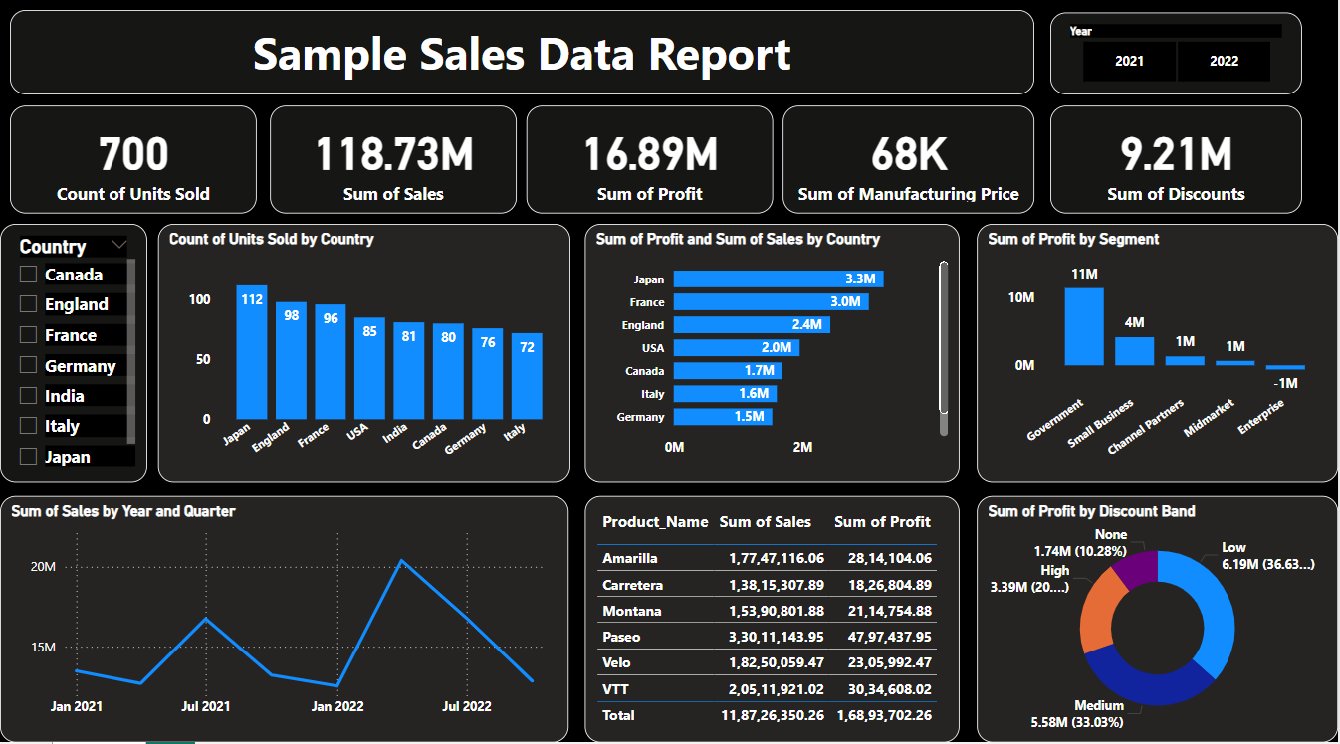

The page's visual inventory and layout, read from the dashboard file:
{"tool":"powerbi","page":{"name":"Page 1","canvas":[1280,720],"ordinal":0},"visuals":[{"type":"textbox","title":"Sample Sales Data Report","box":[9.5,19,979.8,81],"z":0},{"type":"donutChart","fields":{"Category":["Table3.Discount Band"],"Y":["Sum(Table3.Profit)"]},"box":[934.5,484.5,345.2,235.7],"z":1000},{"type":"columnChart","fields":{"Category":["Table3.Segment"],"Y":["Sum(Table3.Profit)"]},"box":[934.5,223.8,345.2,247.6],"z":2000},{"type":"lineChart","fields":{"Y":["Sum(Table3.Sales)"],"Category":["Table3.Date.Variation.Date Hierarchy.Year","Table3.Date.Variation.Date Hierarchy.Quarter","Table3.Date.Variation.Date Hierarchy.Month","Table3.Date.Variation.Date Hierarchy.Day"]},"box":[0,484.5,544.1,235.7],"z":3000},{"type":"clusteredColumnChart","fields":{"Y":["CountNonNull(Table3.Units Sold)"],"Category":["Table3.Country"]},"box":[151.2,223.8,394,247.6],"z":4000},{"type":"clusteredBarChart","fields":{"Category":["Table3.Country"],"Y":["Sum(Table3.Profit)"]},"box":[559.5,223.8,358.3,247.6],"z":5000},{"type":"tableEx","fields":{"Values":["Table3.Product_Name","Sum(Table3.Sales)","Sum(Table3.Profit)"]},"box":[559.5,484.5,358.3,235.7],"z":6000},{"type":"slicer","fields":{"Values":["Table3.Country"]},"box":[0,223.8,140.5,247.6],"z":7000},{"type":"card","fields":{"Values":["CountNonNull(Table3.Units Sold)"]},"box":[9.5,110.7,235.7,103.6],"z":7001},{"type":"card","fields":{"Values":["Sum(Table3.Sales)"]},"box":[258.3,110.7,235.7,103.6],"z":7002},{"type":"card","fields":{"Values":["Sum(Table3.Profit)"]},"box":[503.6,110.7,235.7,103.6],"z":7003},{"type":"card","fields":{"Values":["Sum(Table3.Manufacturing Price)"]},"box":[748.8,110.7,240.5,103.6],"z":7004},{"type":"card","fields":{"Values":["Sum(Table3.Discounts)"]},"box":[1004.8,110.7,240.5,103.6],"z":7005},{"type":"slicer","fields":{"Values":["Table3.Year"]},"box":[1004.8,21.4,240.5,78.6],"z":7006}]}

Visuals, with their boxes in screenshot pixels (x1, y1, x2, y2), scaled from the page's 1280x720 canvas onto the 1340x744 screenshot:
"Sample Sales Data Report" textbox: <region>10, 20, 1036, 103</region>
donutChart - Table3.Discount Band x Sum(Table3.Profit): <region>978, 501, 1339, 743</region>
columnChart - Table3.Segment x Sum(Table3.Profit): <region>978, 231, 1339, 487</region>
lineChart - Sum(Table3.Sales) x Table3.Date.Variation.Date Hierarchy.Year: <region>0, 501, 570, 743</region>
clusteredColumnChart - CountNonNull(Table3.Units Sold) x Table3.Country: <region>158, 231, 571, 487</region>
clusteredBarChart - Table3.Country x Sum(Table3.Profit): <region>586, 231, 961, 487</region>
tableEx - Table3.Product_Name x Sum(Table3.Sales): <region>586, 501, 961, 743</region>
slicer - Table3.Country: <region>0, 231, 147, 487</region>
card - CountNonNull(Table3.Units Sold): <region>10, 114, 257, 221</region>
card - Sum(Table3.Sales): <region>270, 114, 517, 221</region>
card - Sum(Table3.Profit): <region>527, 114, 774, 221</region>
card - Sum(Table3.Manufacturing Price): <region>784, 114, 1036, 221</region>
card - Sum(Table3.Discounts): <region>1052, 114, 1304, 221</region>
slicer - Table3.Year: <region>1052, 22, 1304, 103</region>
